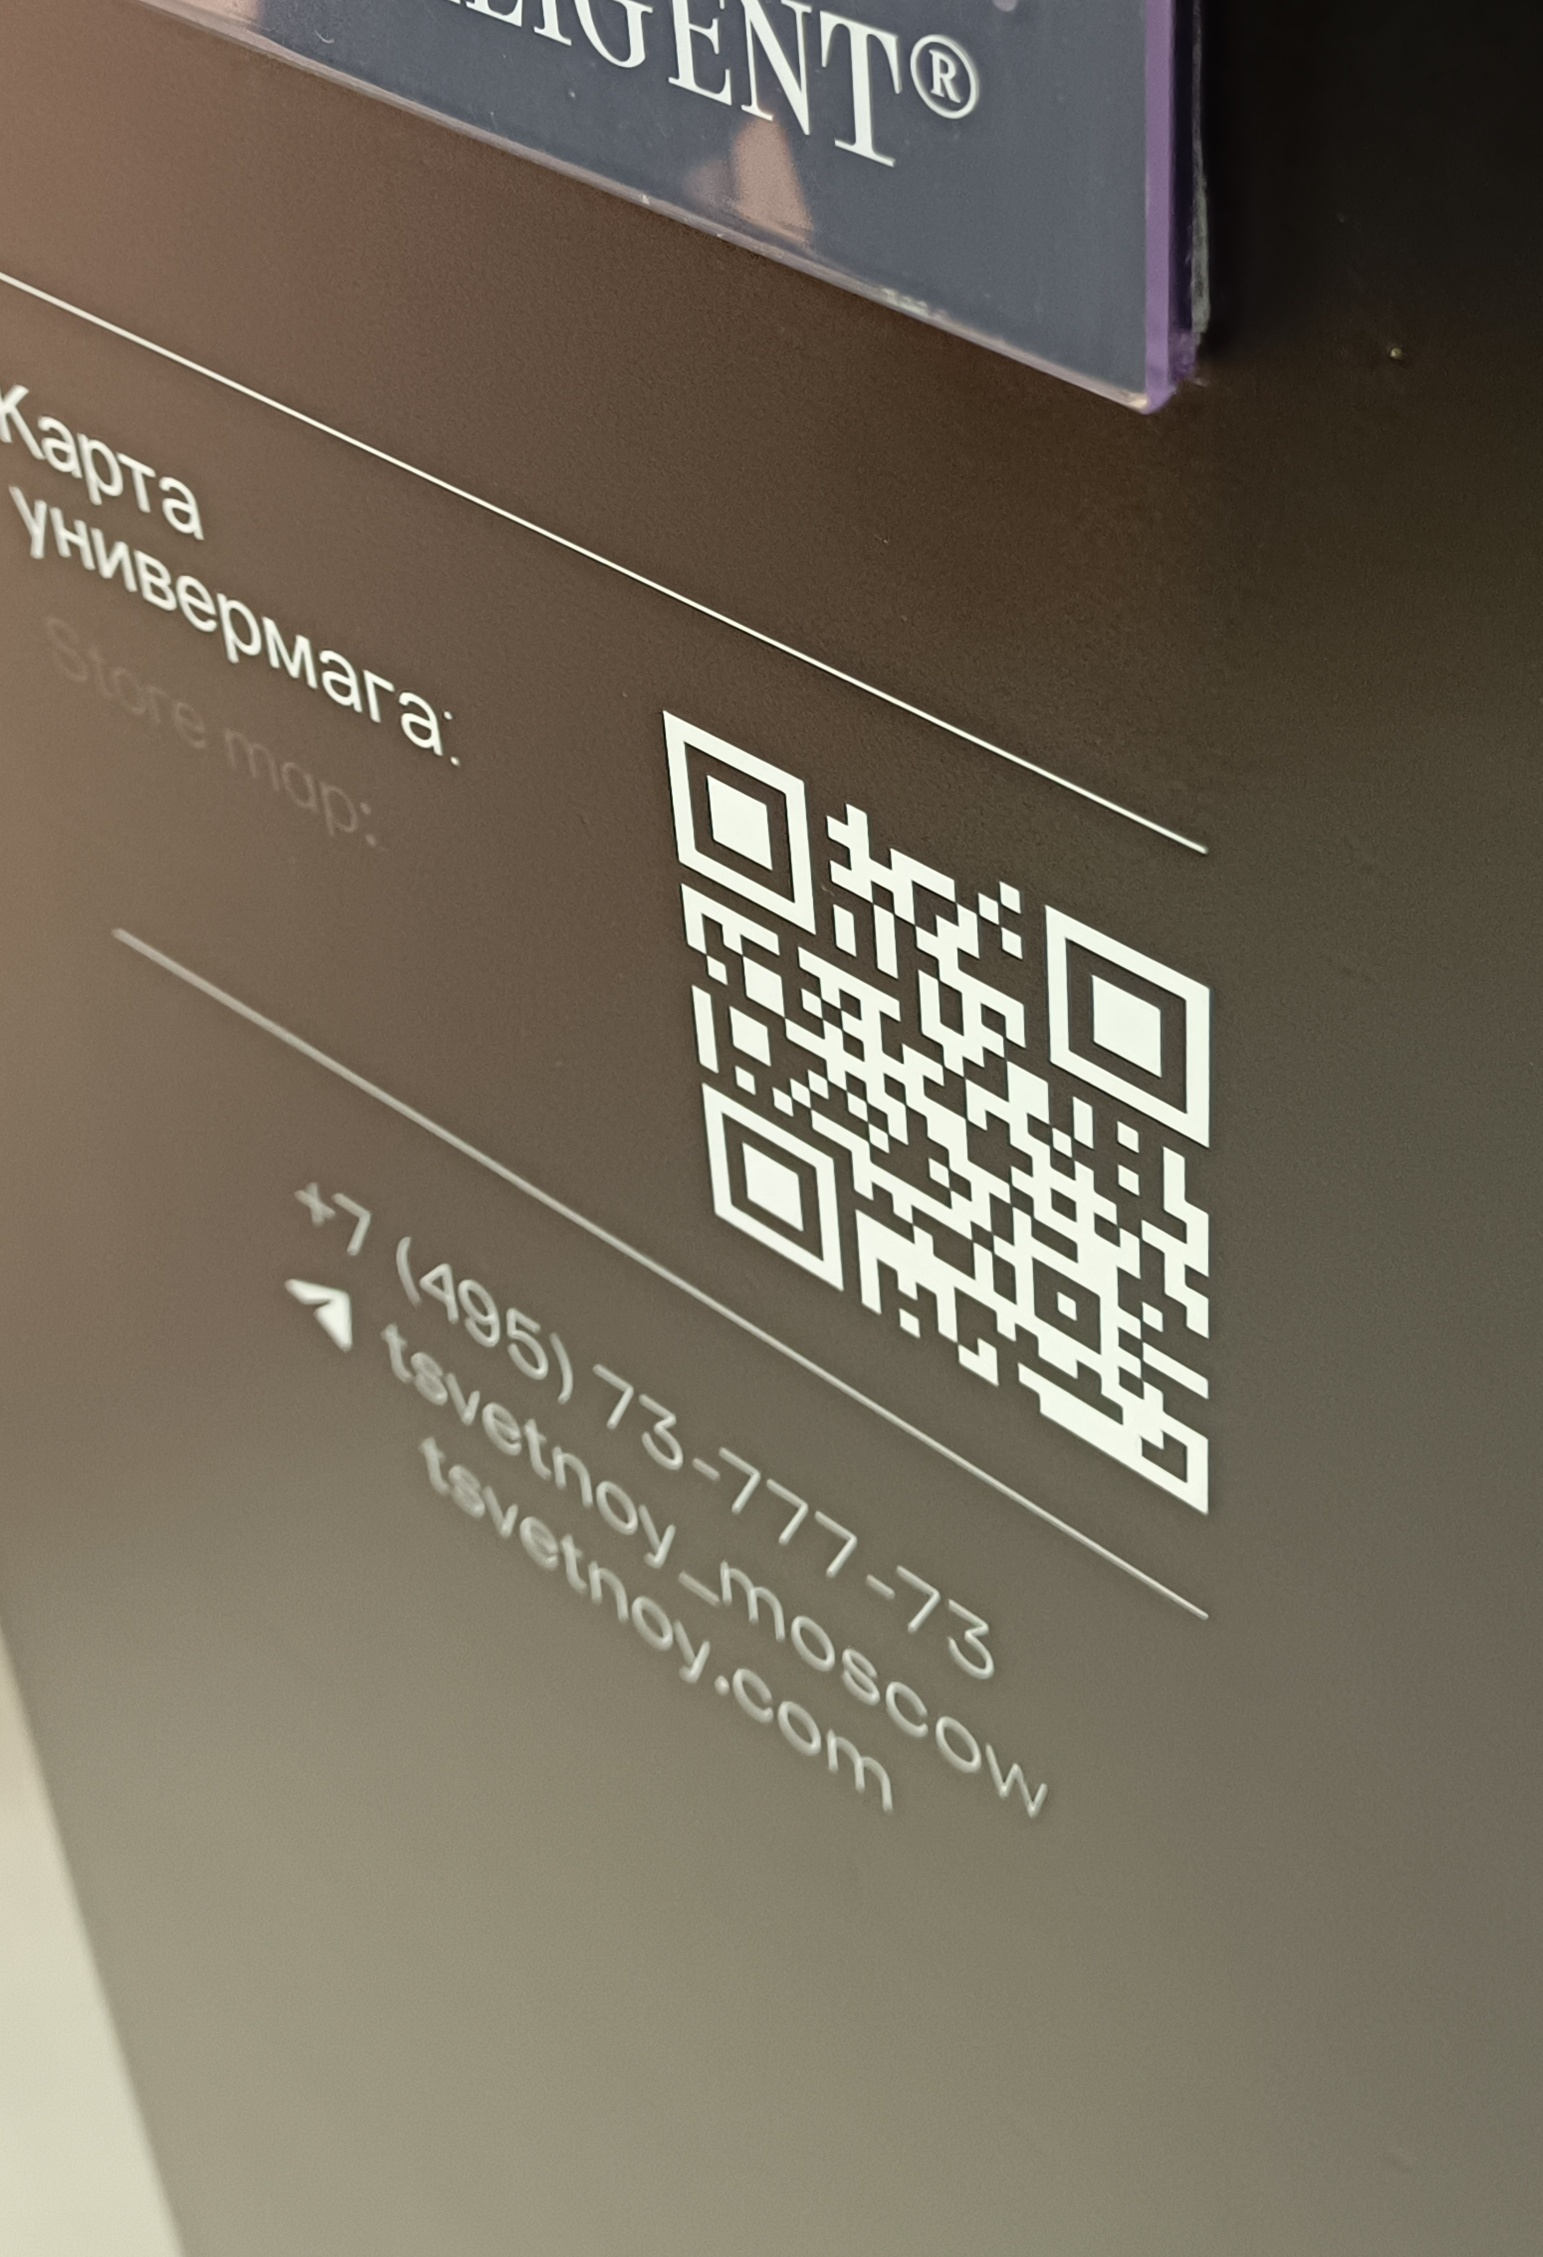2d: (658, 700, 1217, 1516)
